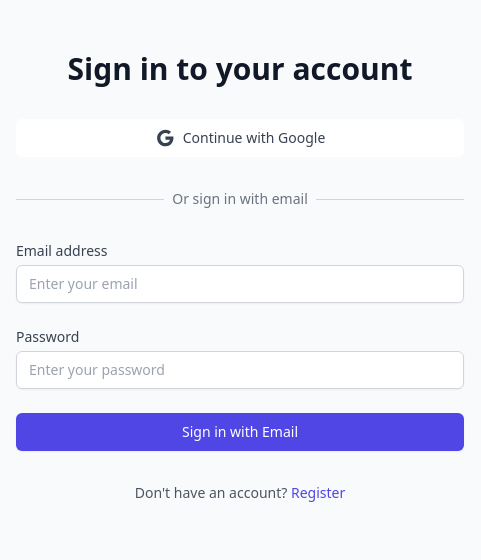
Test: LoginPage › handles failed login
In the field labelled "Email address": (240, 284) [16, 265, 464, 303], type "test@example.com"
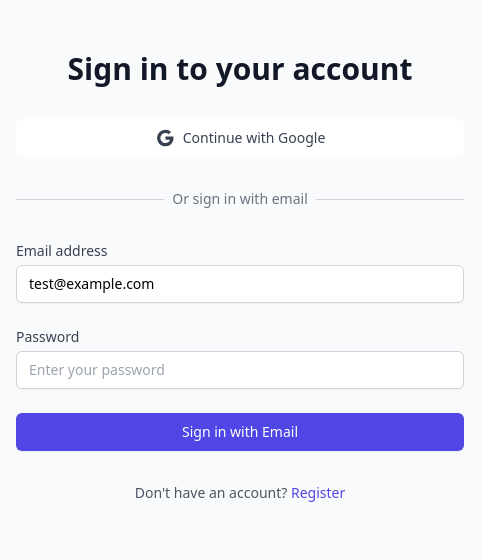
In the password field labelled "Password": (240, 370) [16, 351, 464, 389], type "wrongpassword"
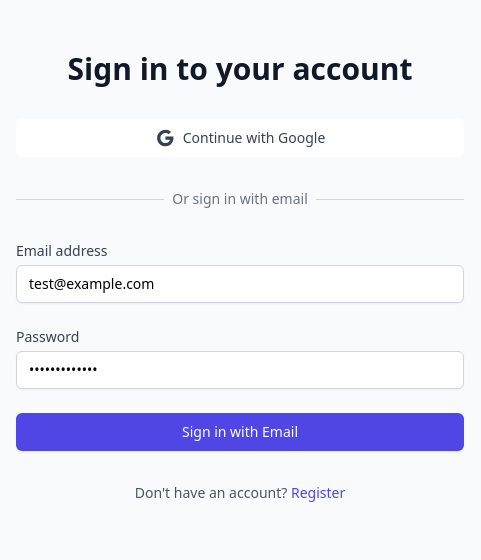
Click the button "Sign in with Email": (240, 432) [16, 413, 464, 451]
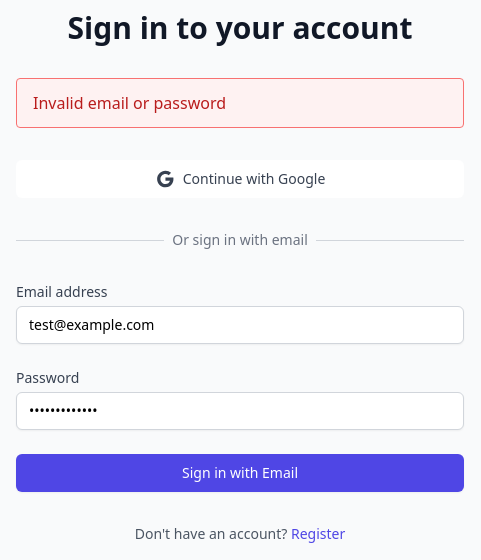
Check: the text "Invalid email or password" is shown, box [33, 92, 226, 114]
